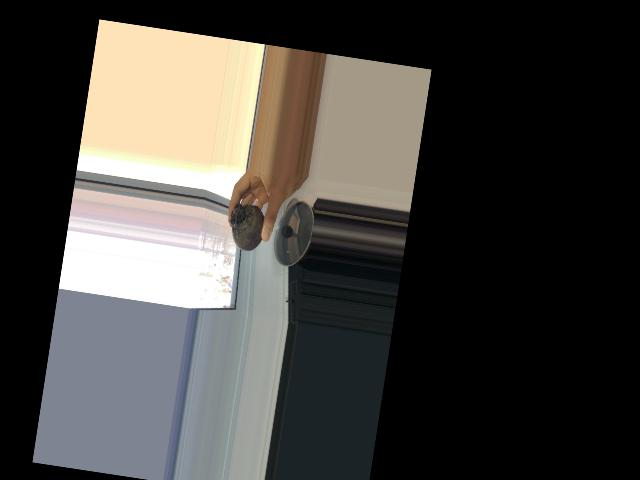beet: (226, 189, 269, 253)
